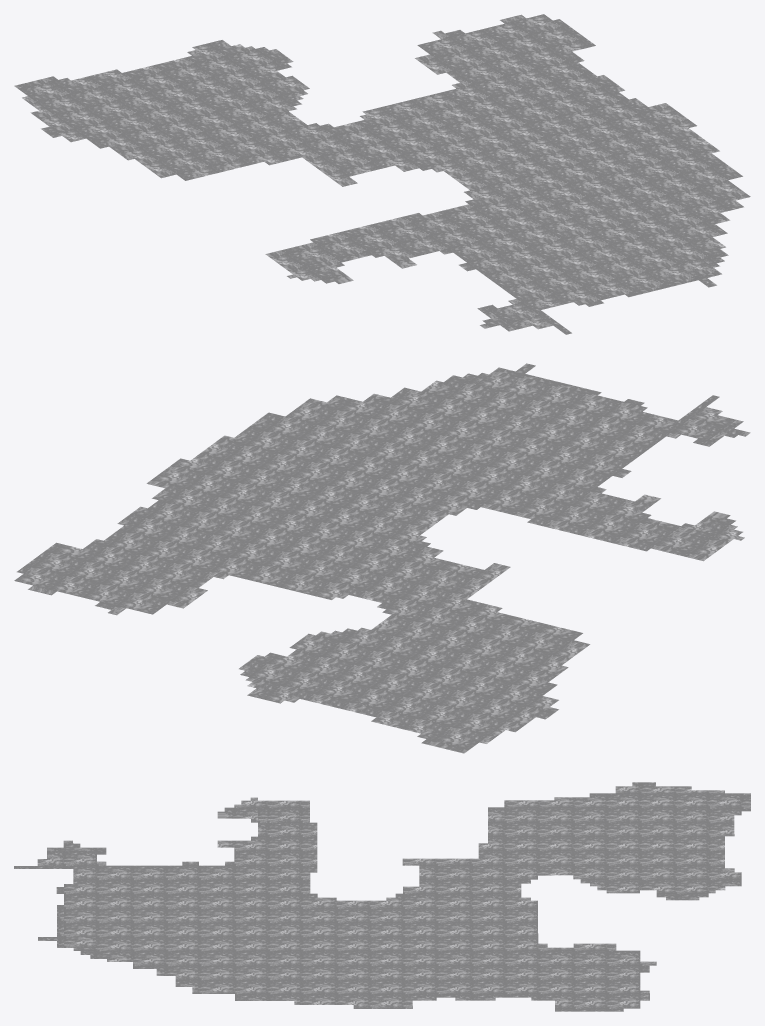
The model's file is hj2-mtnx-mesh.glb.
The picture shows the model from 3 angles, top to bottom: view 1: azimuth 30°, elevation 25°; view 2: azimuth 150°, elevation 25°; view 3: azimuth 270°, elevation 25°; orthographic projection. The views are drawn at different scales.
Parts seen in each view (by area): view 1: hj2-mtnx-props; view 2: hj2-mtnx-props; view 3: hj2-mtnx-props.
Boxes of the visible parts, <box> form: hj2-mtnx-props: <box>15,14,750,334</box>; hj2-mtnx-props: <box>14,363,749,753</box>; hj2-mtnx-props: <box>14,782,750,1011</box>.
Bounding box in the file's own units: 128 × 0 × 174.
1 material, 1 textured.
